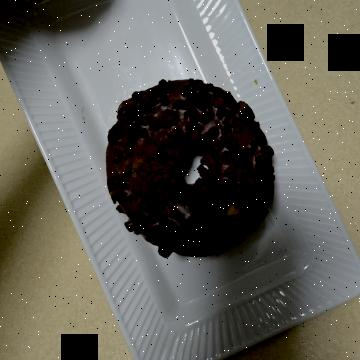doughnut: (70, 70, 276, 260)
